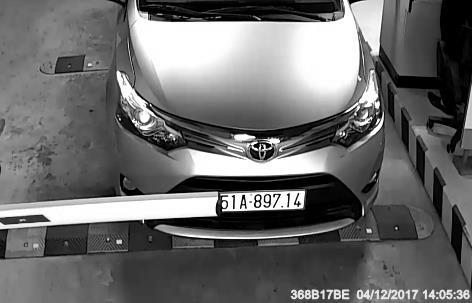License-plate: (206, 181, 312, 224)
